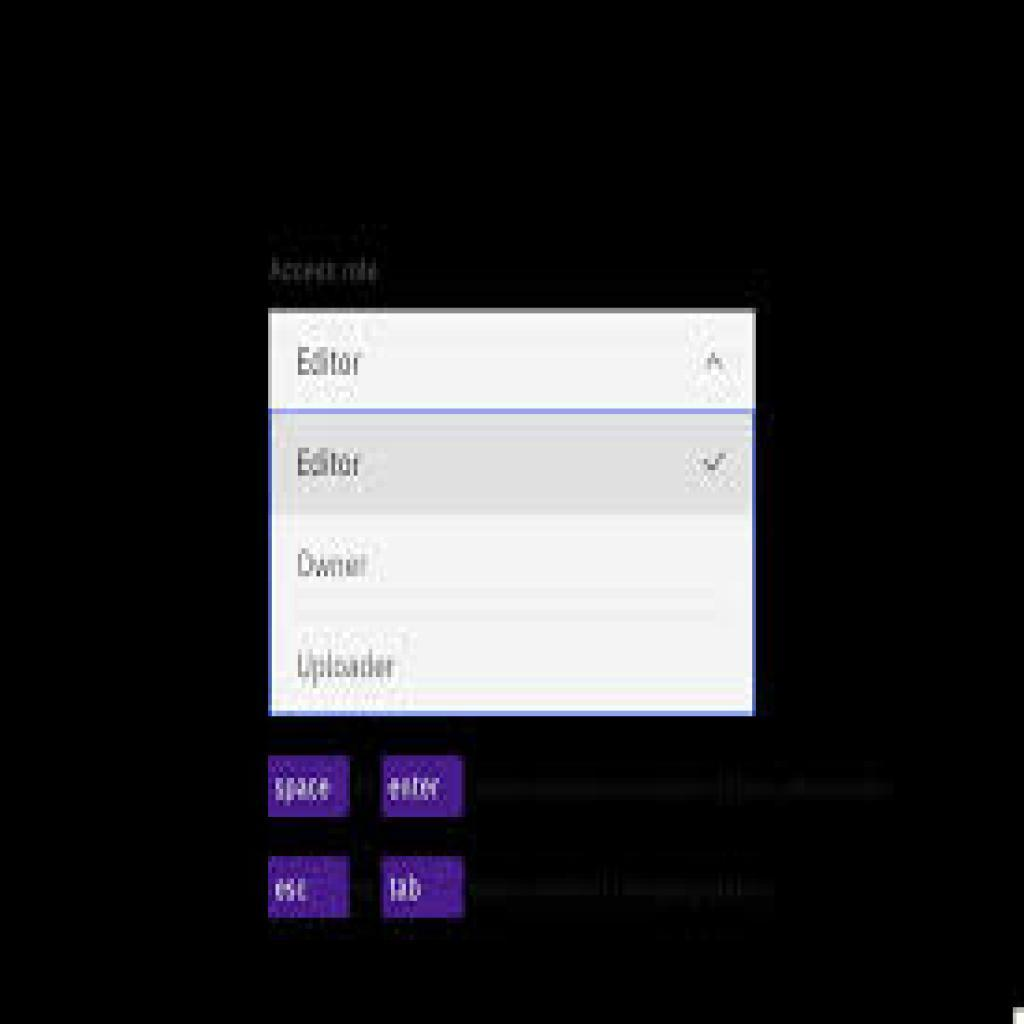button: (378, 854, 466, 920), (265, 757, 351, 817), (267, 855, 347, 919), (381, 755, 460, 816)
dropdown: (268, 310, 758, 415)
